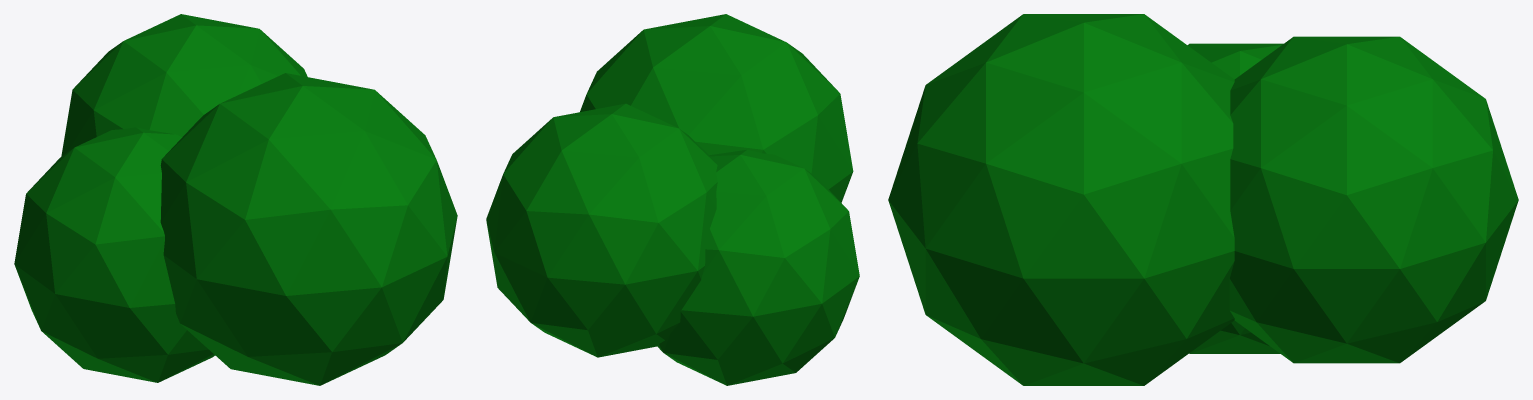
Rendered from Seto2.fbx.
The picture shows the model from 3 angles, left to right: view 1: azimuth 30°, elevation 25°; view 2: azimuth 150°, elevation 25°; view 3: azimuth 270°, elevation 25°; orthographic projection. The views are drawn at different scales.
Parts seen in each view (by area): view 1: Icosphere.022, Icosphere.024, Icosphere.023; view 2: Icosphere.023, Icosphere.024, Icosphere.022; view 3: Icosphere.022, Icosphere.023, Icosphere.024.
Part boxes in pixels (x1,y1,x2,y2): Icosphere.022: (160,73,457,385); Icosphere.024: (14,127,214,382); Icosphere.023: (61,14,307,156); Icosphere.023: (486,103,717,357); Icosphere.024: (657,149,859,385); Icosphere.022: (580,14,853,202); Icosphere.022: (888,14,1234,385); Icosphere.023: (1229,36,1518,363); Icosphere.024: (1187,43,1283,353).
Bounding box in the file's own units: 145 × 128 × 191.
